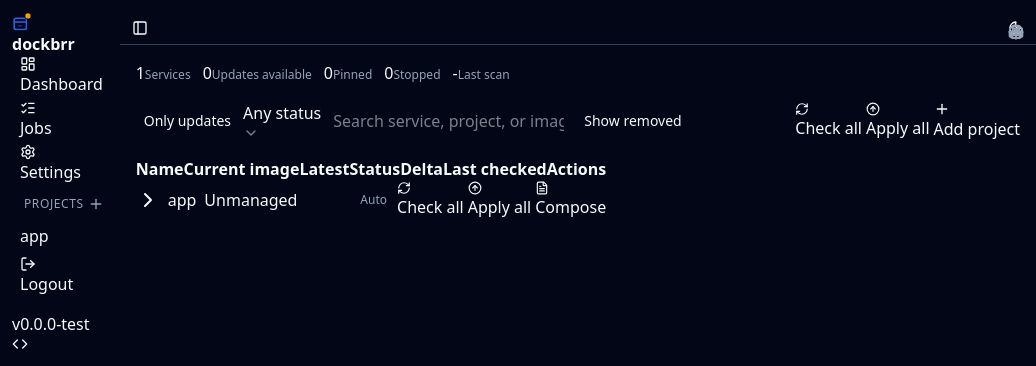
Scenario: shows an Unmanaged badge on the project header when the project is flagged unmanaged
Click the button "app Unmanaged". click: (217, 200)
box: [136,188,298,212]
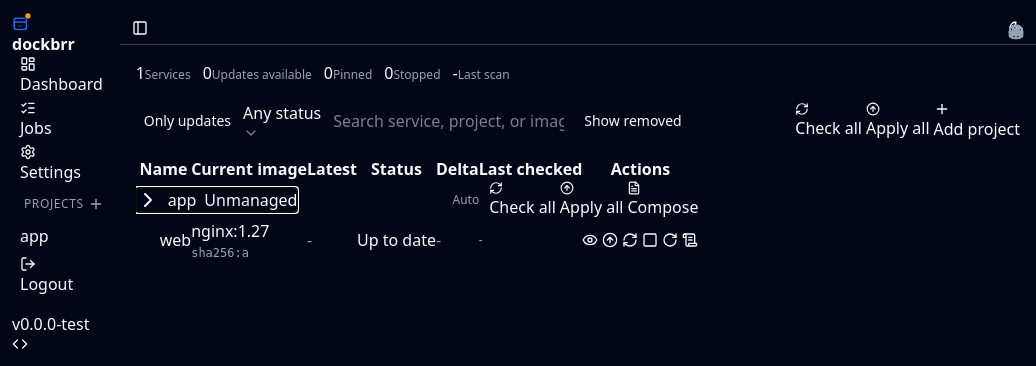
Check: the text "Unmanaged" is shown, box [204,188,298,212]
Check: the link "web" is shown, box [160,228,191,252]
